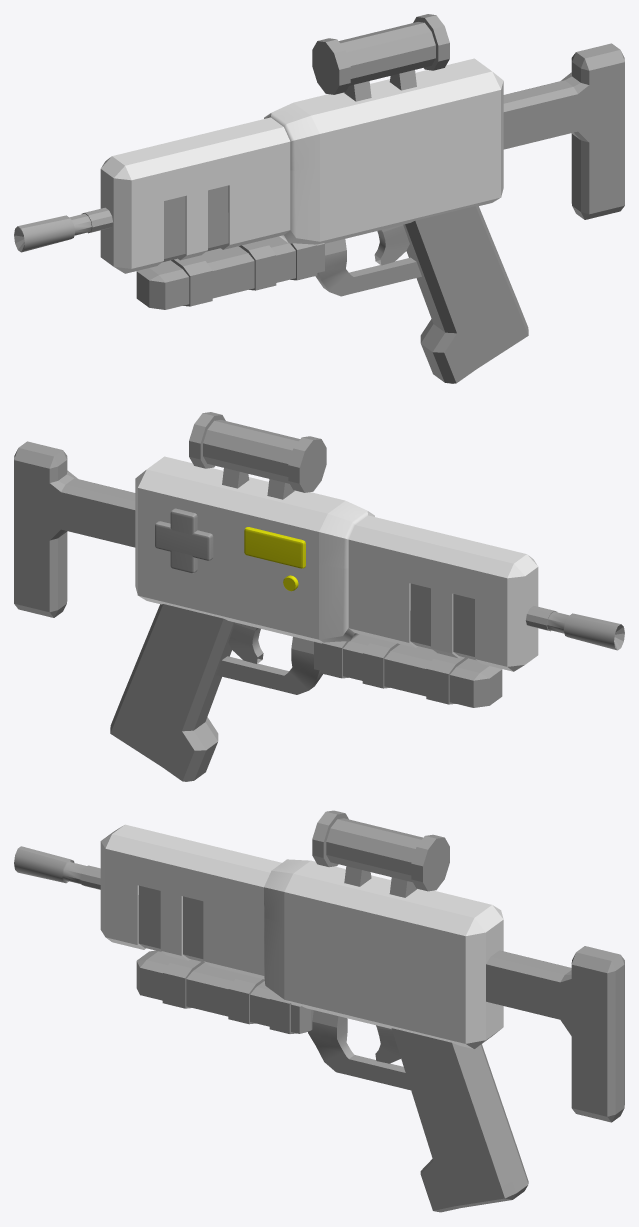
The model's file is Rifle.fbx.
3 renders of one model, top to bottom at view 1: azimuth 30°, elevation 25°; view 2: azimuth 150°, elevation 25°; view 3: azimuth 330°, elevation 25°, orthographic.
Visible parts, largest first — view 1: Rifle; view 2: Rifle; view 3: Rifle.
Part boxes in pixels (box(x1,y1,x2,y2)): Rifle: box(14, 14, 624, 383); Rifle: box(14, 412, 624, 781); Rifle: box(14, 810, 624, 1212).
Size of the model in its own units: 106 by 61.68 by 11.92.
